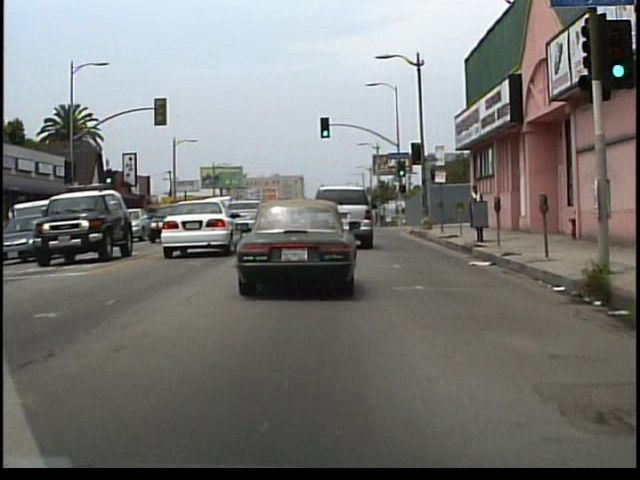person: (469, 183, 488, 231)
